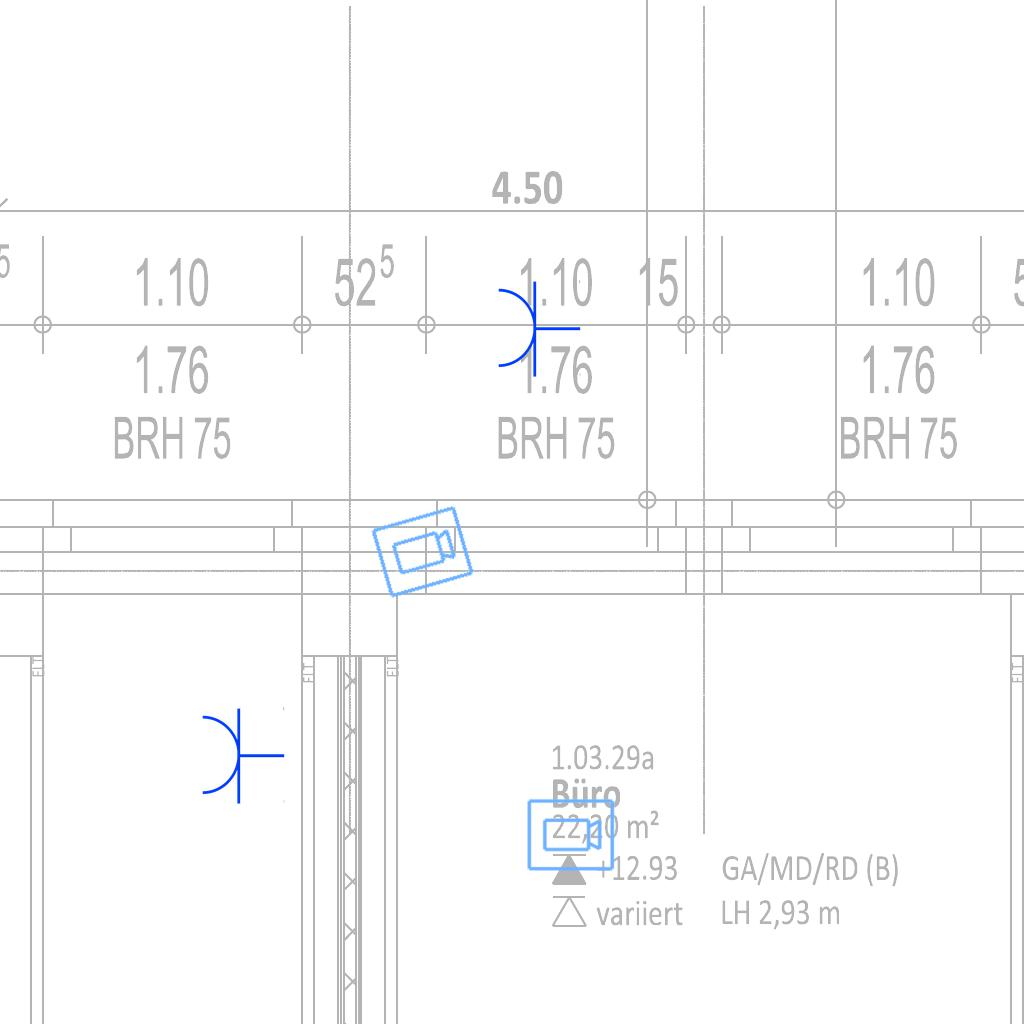KFO_Kamera_mit_Festobjektiv: (368, 502, 477, 603), (525, 797, 616, 874)
Schukosteckdose_einfach: (198, 705, 285, 805), (494, 278, 581, 378)
